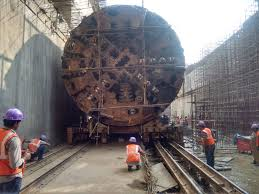arm: (7, 135, 29, 168)
face: (10, 115, 23, 130)
helmet: (0, 104, 24, 126), (126, 133, 138, 143)
human: (0, 102, 29, 194), (195, 117, 219, 169), (122, 132, 146, 170), (251, 118, 258, 165)
leg: (0, 176, 21, 194), (205, 143, 216, 169)
vest: (0, 125, 23, 177), (125, 143, 141, 162), (200, 126, 215, 145), (255, 128, 259, 149)
